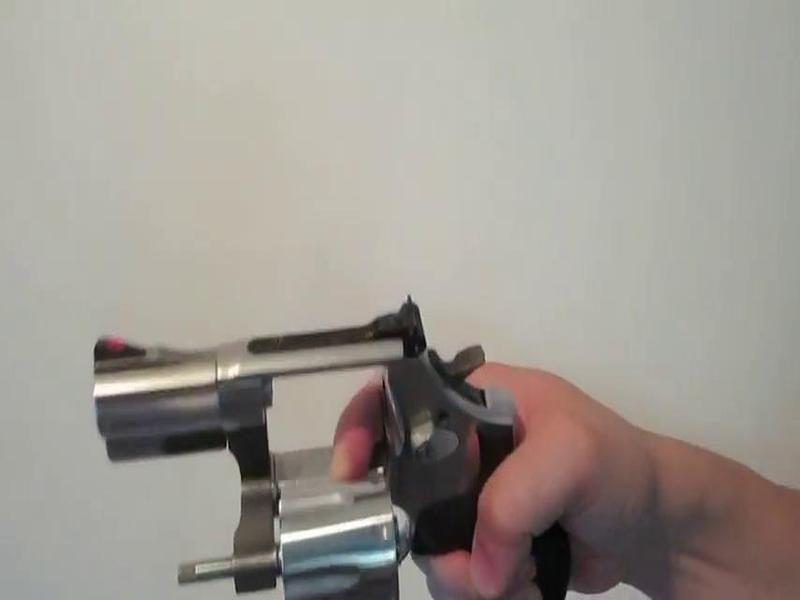Revolver: (75, 274, 554, 600)
